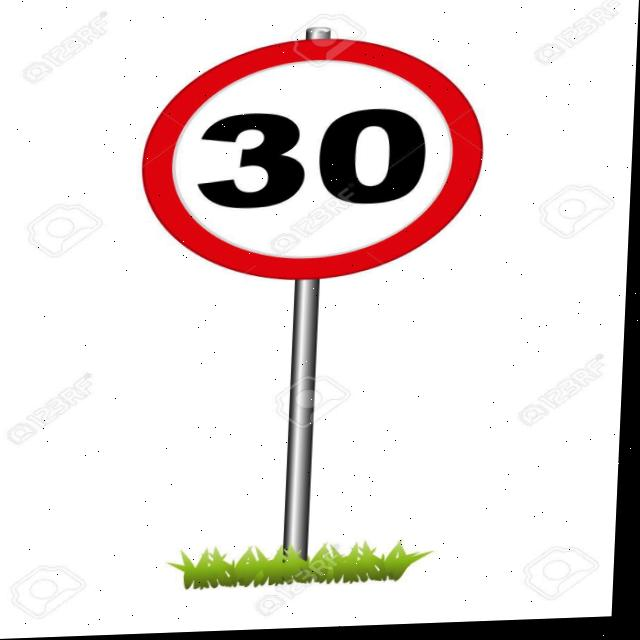Speed limit 30: (137, 32, 494, 290)
